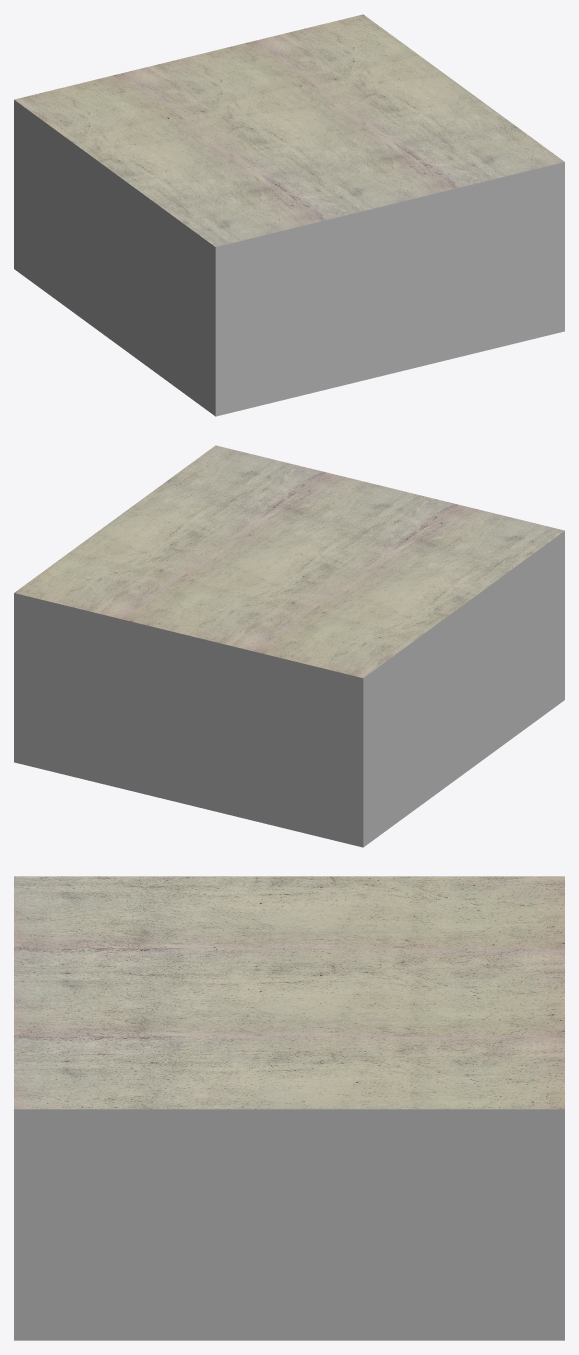
File: balenciaga.fbx
The picture shows the model from 3 angles, top to bottom: view 1: azimuth 30°, elevation 25°; view 2: azimuth 150°, elevation 25°; view 3: azimuth 270°, elevation 25°; orthographic projection. The views are drawn at different scales.
Visible parts, largest first — view 1: Cube; view 2: Cube; view 3: Cube.
Part boxes in pixels (x1=…): Cube: x1=14, y1=14, x2=564, y2=416; Cube: x1=14, y1=445, x2=564, y2=847; Cube: x1=14, y1=876, x2=564, y2=1340.
Bounding box in the file's own units: 6306 × 2923 × 6306.
